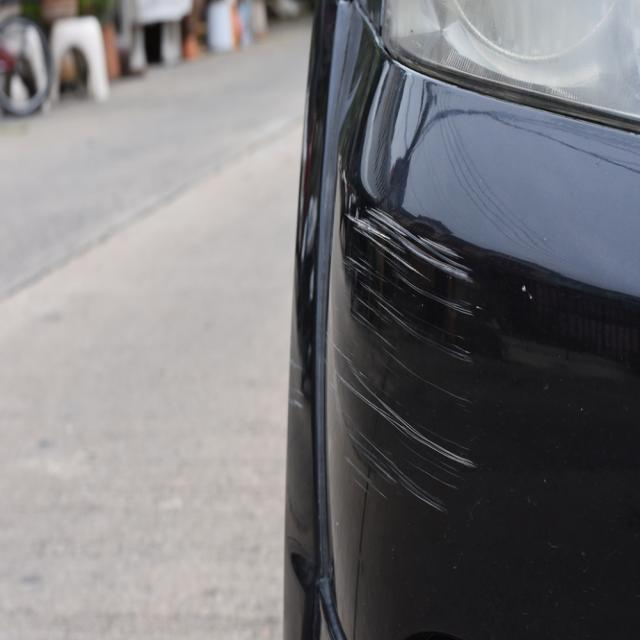scratch: (328, 197, 481, 510)
